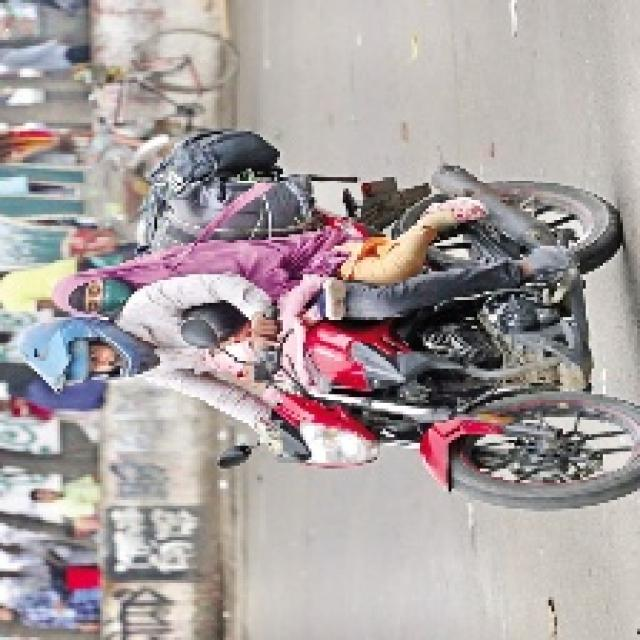bike: (204, 158, 627, 513)
